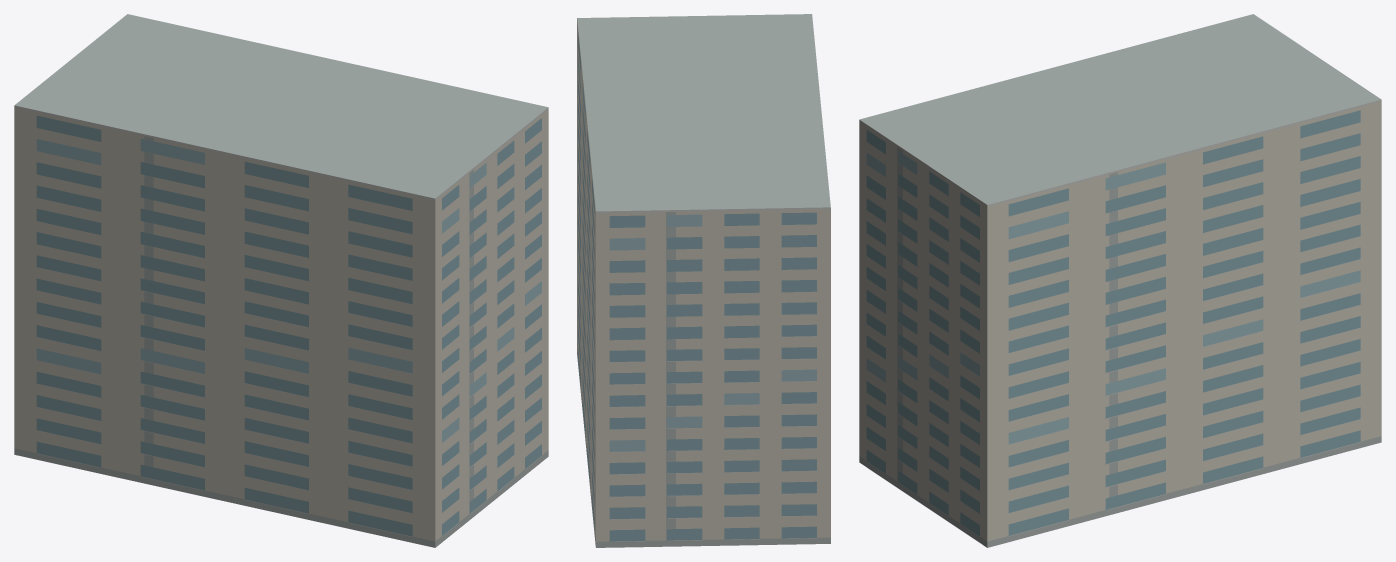
The model's file is residential-e5485859-f820-4318-b114-a58776ebaae2.glb.
3 renders of one model, left to right at view 1: azimuth 30°, elevation 25°; view 2: azimuth 150°, elevation 25°; view 3: azimuth 270°, elevation 25°, orthographic. The views are drawn at different scales.
Parts seen in each view (by area): view 1: residential-e5485859-f820-4318-b114-a58776ebaae2.tmp; view 2: residential-e5485859-f820-4318-b114-a58776ebaae2.tmp; view 3: residential-e5485859-f820-4318-b114-a58776ebaae2.tmp.
Boxes of the visible parts, x1,y1,x2,y2 form: residential-e5485859-f820-4318-b114-a58776ebaae2.tmp: (14,14,548,547); residential-e5485859-f820-4318-b114-a58776ebaae2.tmp: (577,14,830,547); residential-e5485859-f820-4318-b114-a58776ebaae2.tmp: (859,14,1381,547).
Size of the model in its own units: 52.58 by 44 by 60.77.
